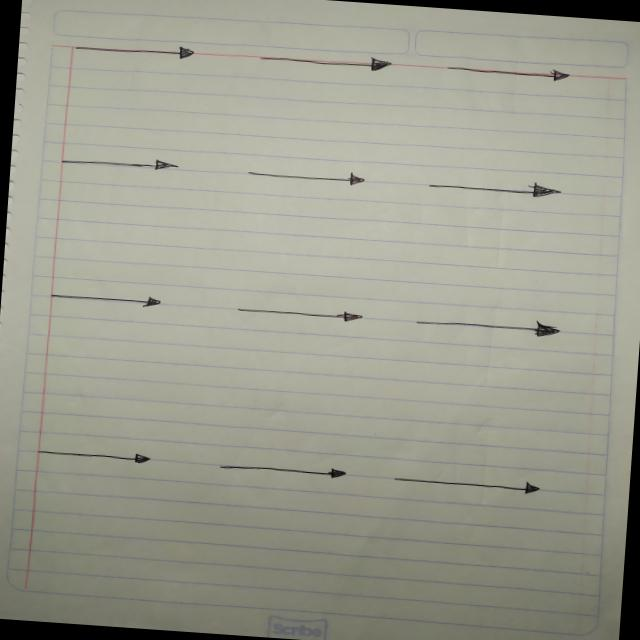arrow_line_right: (376, 465, 550, 504), (412, 171, 566, 208), (218, 296, 374, 332), (208, 452, 364, 488), (402, 310, 564, 344), (230, 158, 374, 194), (246, 46, 404, 78), (434, 56, 586, 88), (35, 282, 174, 316), (48, 146, 194, 178), (64, 34, 200, 65), (29, 439, 158, 471)
